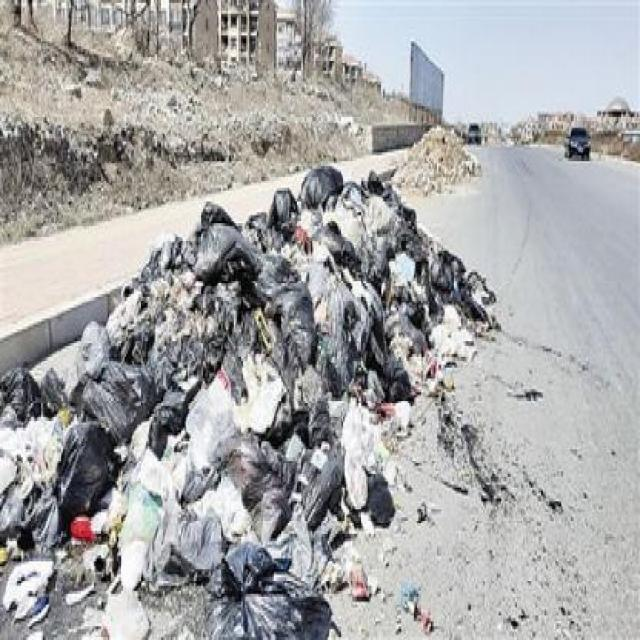garbage: (8, 357, 319, 600), (163, 169, 450, 409)
